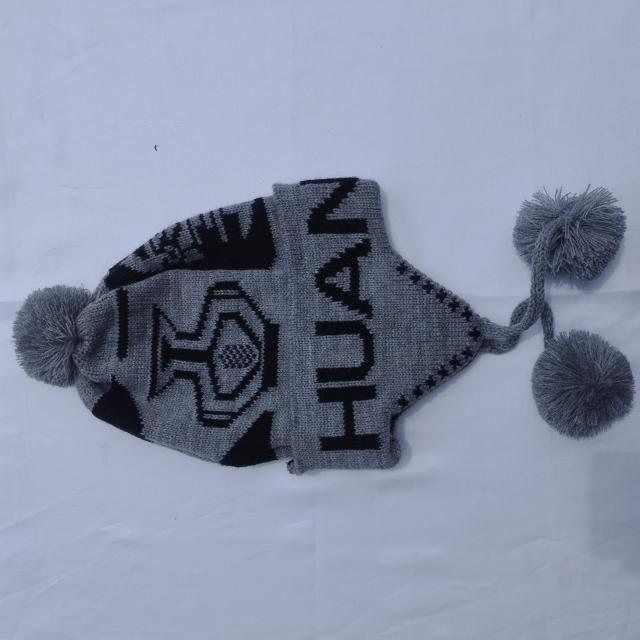Gorro: (12, 175, 633, 476)
